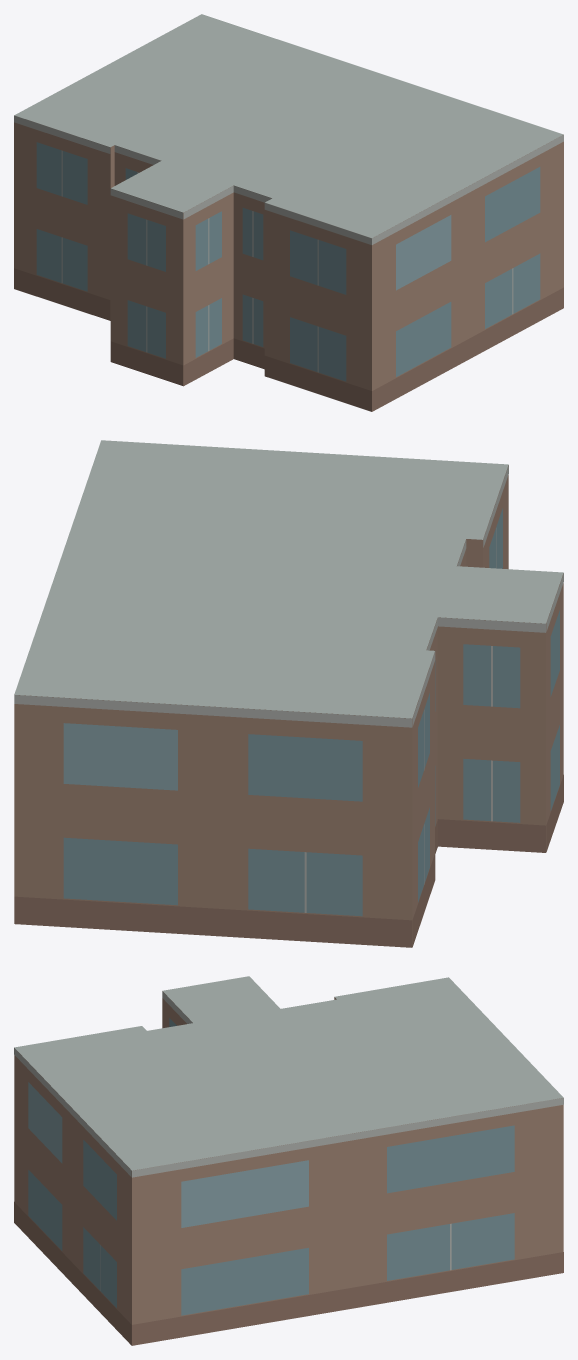
Rendered from survey-upis-32913380.glb.
The picture shows the model from 3 angles, top to bottom: view 1: azimuth 30°, elevation 25°; view 2: azimuth 150°, elevation 25°; view 3: azimuth 270°, elevation 25°; orthographic projection. The views are drawn at different scales.
Parts seen in each view (by area): view 1: survey-upis-32913380.tmp; view 2: survey-upis-32913380.tmp; view 3: survey-upis-32913380.tmp.
Boxes of the visible parts, <box> form: survey-upis-32913380.tmp: <box>14,14,563,411</box>; survey-upis-32913380.tmp: <box>14,440,563,947</box>; survey-upis-32913380.tmp: <box>14,976,563,1345</box>.
Bounding box in the file's own units: 14.54 × 6.1 × 17.36.
